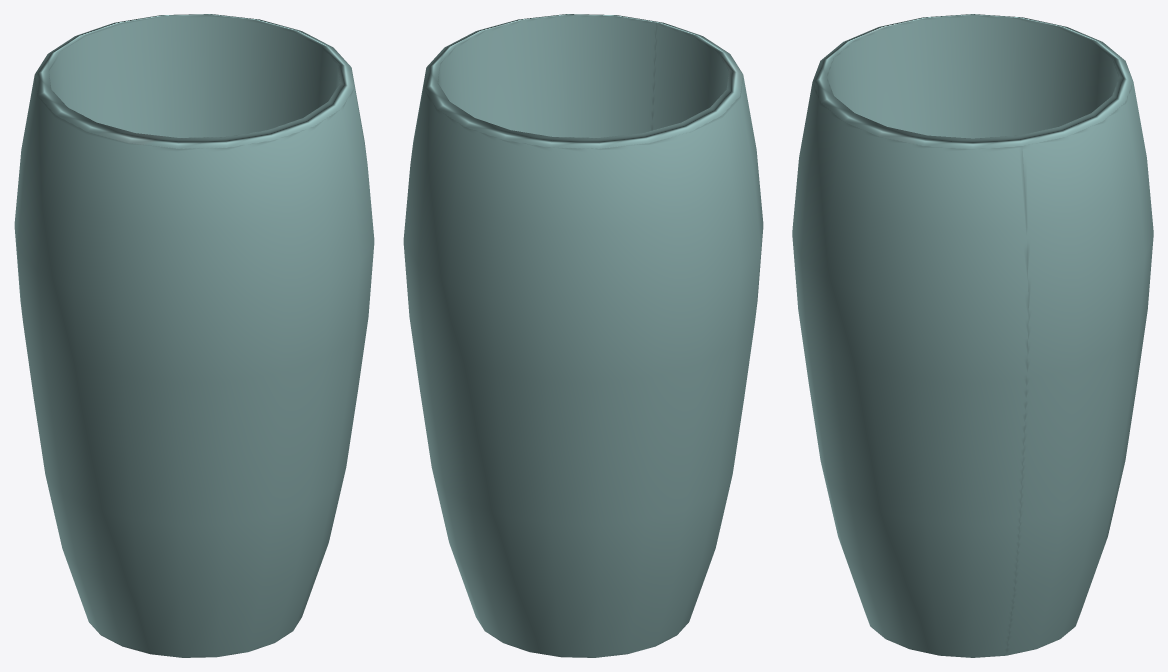
File: Vase_Adam_Mesh.fbx
3 views of the same model, side by side, from view 1: azimuth 30°, elevation 25°; view 2: azimuth 150°, elevation 25°; view 3: azimuth 270°, elevation 25° (orthographic).
Parts seen in each view (by area): view 1: Vase; view 2: Vase; view 3: Vase.
Part boxes in pixels (x1,y1,x2,y2): Vase: (14,14,374,657); Vase: (403,14,763,657); Vase: (792,14,1153,657).
Bounding box in the file's own units: 65.46 × 107 × 65.46.
